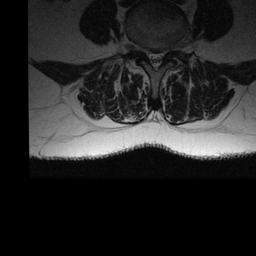CCS_normal: (152, 45, 158, 76)
LFS_severe_stenosis: (164, 39, 171, 61)
LLS_stenosis: (158, 47, 164, 66)
RFS_stenosis: (139, 40, 147, 59)
RLS_stenosis: (146, 45, 152, 66)
